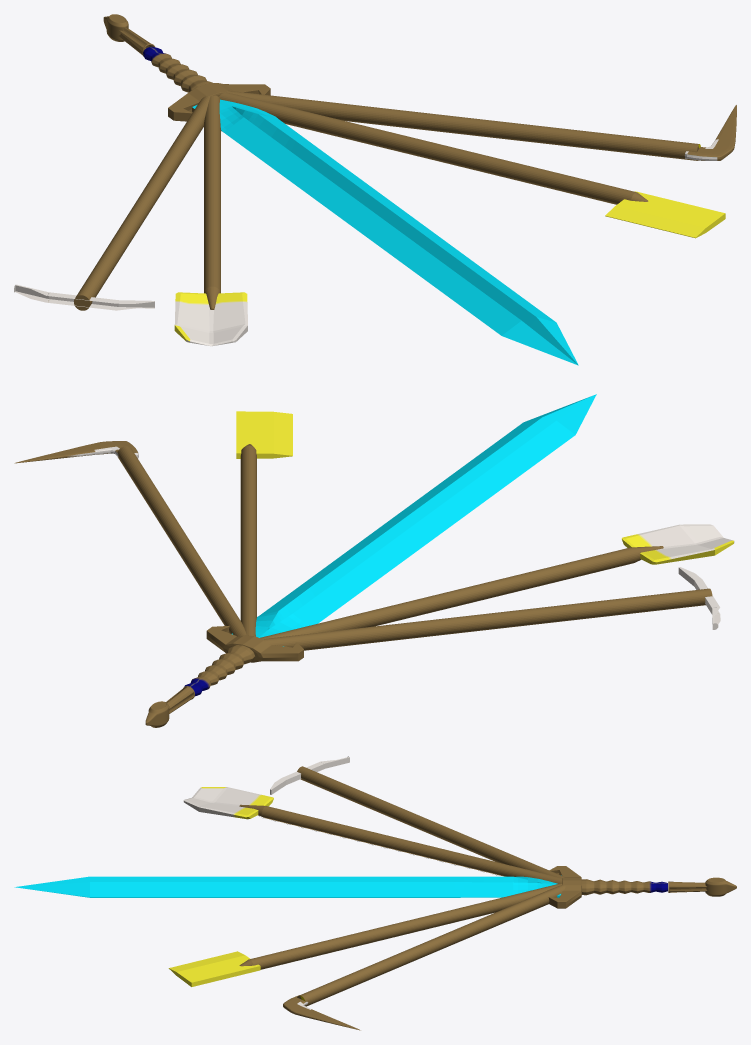
Rendered from multi_tool_non_fliped.obj.
3 renders of one model, top to bottom at view 1: azimuth 30°, elevation 25°; view 2: azimuth 150°, elevation 25°; view 3: azimuth 270°, elevation 25°, orthographic. The views are drawn at different scales.
Visible parts, largest first — view 1: Blade_Cube, Cylinder.007, Cylinder.006, Cylinder.005, Sovel_Cube.001, Cylinder.004, Cube.001_Cube.003, Cylinder_Cylinder.001, Cube_Cube.002, Cylinder.001_Cylinder, Cube.002_Cube.004; view 2: Blade_Cube, Cylinder.005, Cylinder.004, Cylinder.007, Cylinder.006, Sovel_Cube.001, Cube.001_Cube.003, Cylinder_Cylinder.001, Cylinder.001_Cylinder, Cube.002_Cube.004, Cube_Cube.002; view 3: Blade_Cube, Cylinder.006, Cylinder.004, Cylinder.007, Cylinder.005, Sovel_Cube.001, Cube.001_Cube.003, Cylinder.001_Cylinder, Cylinder_Cylinder.001, Cube.002_Cube.004, Cube_Cube.002, Cylinder.003.
Part boxes in pixels (<box>): Blade_Cube: <box>192,99,578,365</box>; Cylinder.007: <box>227,90,700,160</box>; Cylinder.006: <box>219,92,648,204</box>; Cylinder.005: <box>74,96,210,310</box>; Sovel_Cube.001: <box>174,292,247,346</box>; Cylinder.004: <box>204,95,220,309</box>; Cube.001_Cube.003: <box>605,191,725,238</box>; Cylinder_Cylinder.001: <box>168,83,270,121</box>; Cube_Cube.002: <box>14,284,154,310</box>; Cylinder.001_Cylinder: <box>143,46,213,92</box>; Cube.002_Cube.004: <box>684,105,736,160</box>; Blade_Cube: <box>232,394,596,646</box>; Cylinder.005: <box>263,588,712,650</box>; Cylinder.004: <box>260,546,663,639</box>; Cylinder.007: <box>117,446,246,636</box>; Cylinder.006: <box>240,444,256,636</box>; Sovel_Cube.001: <box>621,524,734,564</box>; Cube.001_Cube.003: <box>236,411,292,458</box>; Cylinder_Cylinder.001: <box>206,625,303,662</box>; Cylinder.001_Cylinder: <box>184,645,254,696</box>; Cube.002_Cube.004: <box>14,441,138,463</box>; Cube_Cube.002: <box>678,567,720,629</box>; Blade_Cube: <box>14,875,561,897</box>; Cylinder.006: <box>239,883,562,969</box>; Cylinder.004: <box>239,804,562,883</box>; Cylinder.007: <box>297,884,565,1006</box>; Cylinder.005: <box>297,766,564,878</box>; Sovel_Cube.001: <box>183,787,273,819</box>; Cube.001_Cube.003: <box>168,951,260,986</box>; Cylinder.001_Cylinder: <box>581,879,667,895</box>; Cylinder_Cylinder.001: <box>548,866,581,908</box>; Cube.002_Cube.004: <box>283,994,360,1030</box>; Cube_Cube.002: <box>270,756,349,794</box>; Cylinder.003: <box>705,877,736,896</box>.
Size of the model in its own units: 69.2 by 1.88 by 77.71.
